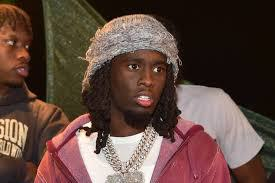kai-cenat: (109, 52, 167, 117)
